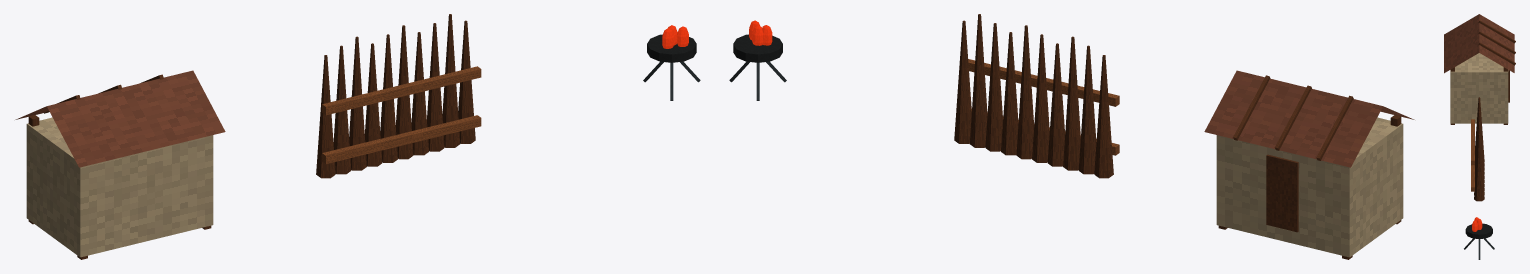
The model's file is KIT_driftwood_camp.gltf.
3 views of the same model, side by side, from view 1: azimuth 30°, elevation 25°; view 2: azimuth 150°, elevation 25°; view 3: azimuth 270°, elevation 25° (orthographic). The views are drawn at different scales.
Visible parts, largest first — view 1: 01_hut, 02_palisade, 03_brazier; view 2: 01_hut, 02_palisade, 03_brazier; view 3: 01_hut, 02_palisade, 03_brazier.
Boxes of the visible parts, x1,y1,x2,y2 form: 01_hut: (15,70,225,259); 02_palisade: (316,14,481,178); 03_brazier: (643,25,700,100); 01_hut: (1204,70,1414,259); 02_palisade: (954,14,1119,178); 03_brazier: (729,20,786,100); 01_hut: (1444,14,1515,124); 02_palisade: (1471,97,1484,201); 03_brazier: (1464,217,1494,259).
Size of the model in its own units: 13.02 by 2.65 by 2.28.
7 materials, 7 textured.
